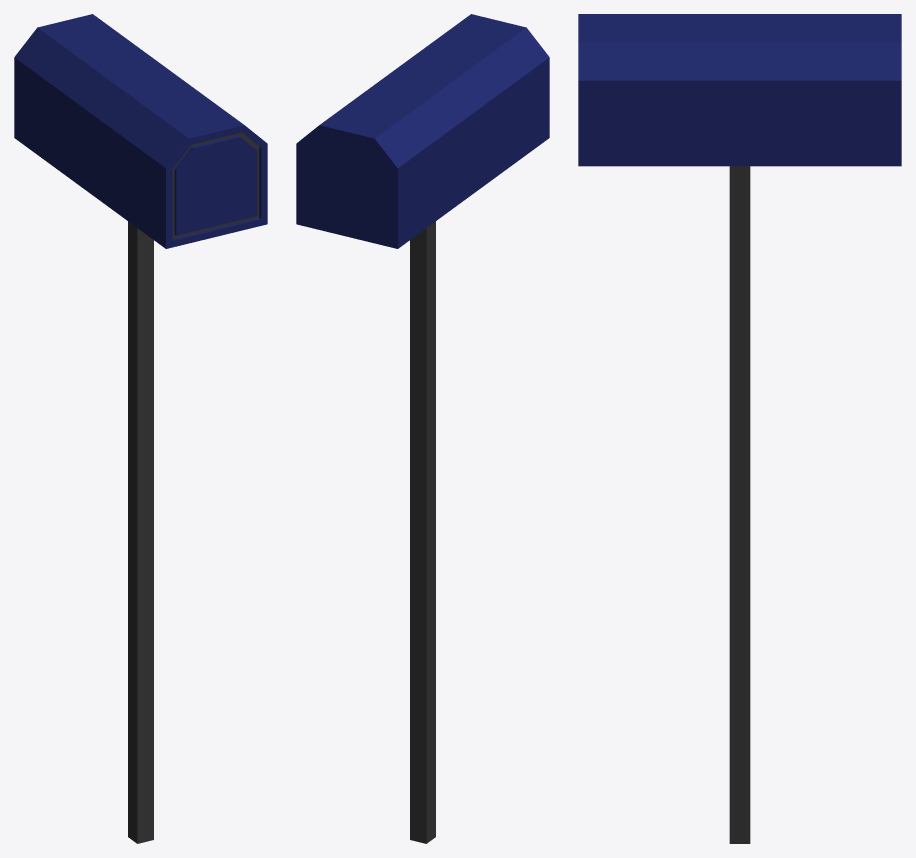
The model's file is Mailbox 3.fbx.
3 renders of one model, left to right at view 1: azimuth 30°, elevation 25°; view 2: azimuth 150°, elevation 25°; view 3: azimuth 270°, elevation 25°, orthographic. The views are drawn at different scales.
Parts seen in each view (by area): view 1: Mailbox 3; view 2: Mailbox 3; view 3: Mailbox 3.
Boxes of the visible parts, <box> form: Mailbox 3: <box>14,14,267,843</box>; Mailbox 3: <box>296,14,549,843</box>; Mailbox 3: <box>578,14,901,843</box>.
Bounding box in the file's own units: 0.1794 × 0.4645 × 1.29.
